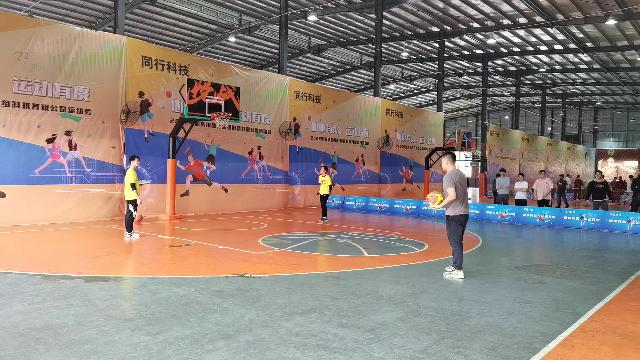ball: (427, 190, 441, 205), (136, 214, 142, 222)
basket: (211, 111, 231, 127)
